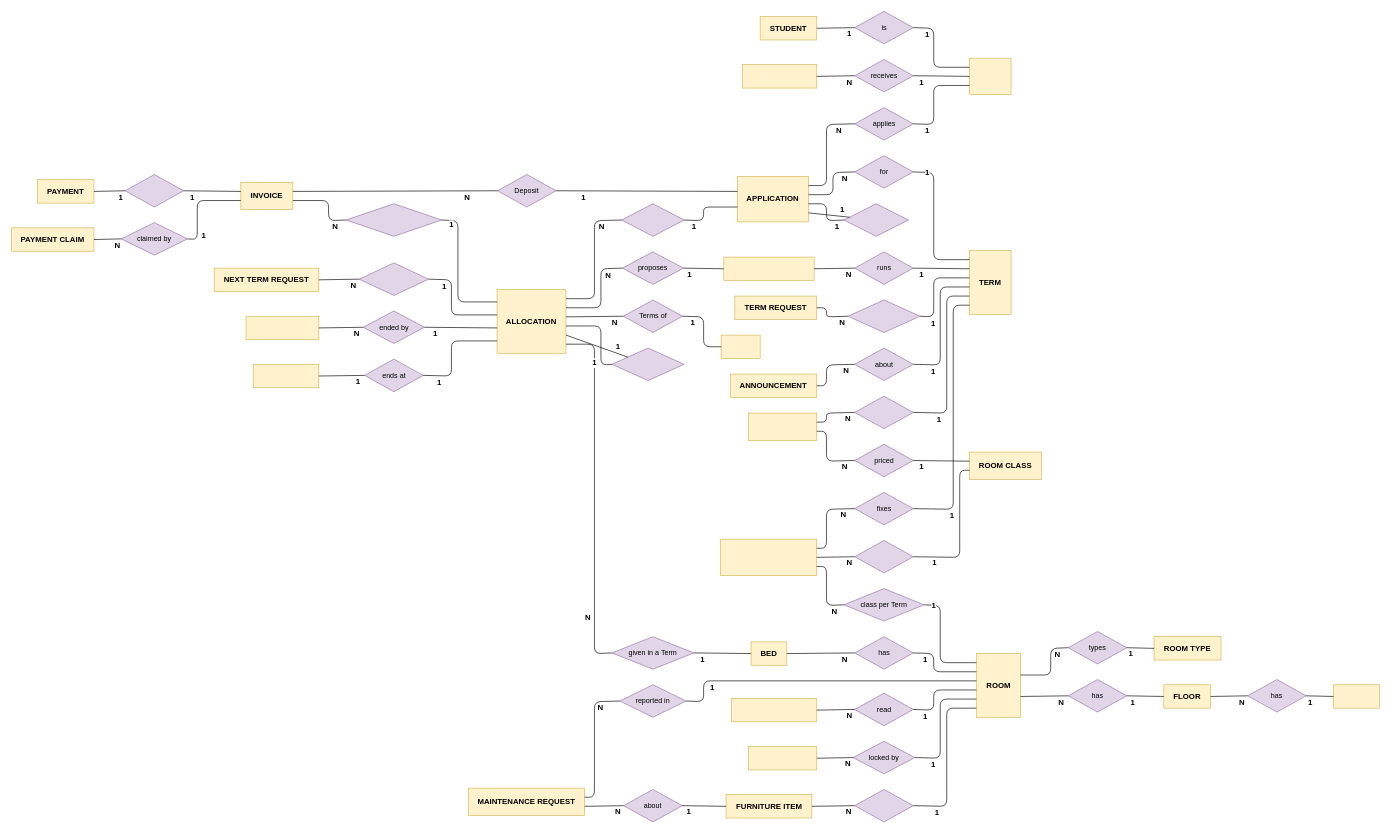
This 1391x833 diagram has some shape labels left out. Here are the shapes that lost their labels. From the top down, the box of each, then its label:
(742, 64, 817, 88): NOTIFICATION
(969, 58, 1011, 95): USER
(124, 174, 184, 207): paid by
(345, 203, 442, 236): Balance, fee, Utility
(621, 203, 684, 236): placed as
(843, 203, 908, 236): roommate
(358, 262, 429, 295): changed by
(723, 256, 814, 280): ASSIGNMENT RUN
(245, 316, 319, 340): TERMINATION
(847, 299, 920, 332): proposed by
(611, 347, 684, 381): next Term of
(721, 334, 760, 358): STAY
(253, 364, 319, 388): CHECK OUT
(748, 412, 817, 440): TERM PRICE
(854, 396, 913, 429): prices
(720, 539, 817, 576): ROOM CLASS TERM
(854, 540, 913, 573): used in
(731, 698, 817, 722): METER READING
(1333, 684, 1380, 708): BLOCK
(748, 746, 817, 770): DOOR CODE
(854, 789, 913, 822): holds
